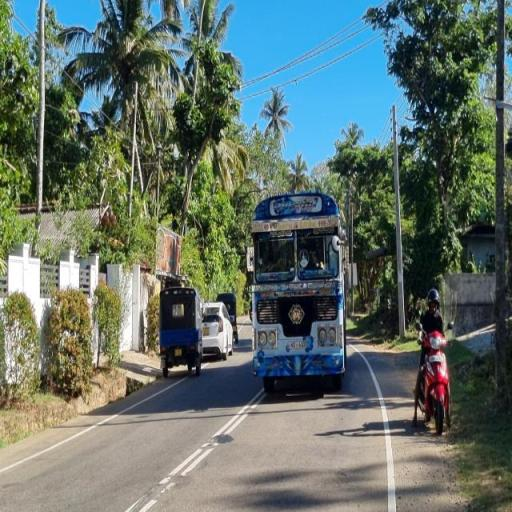double_white_line: (156, 387, 266, 495)
